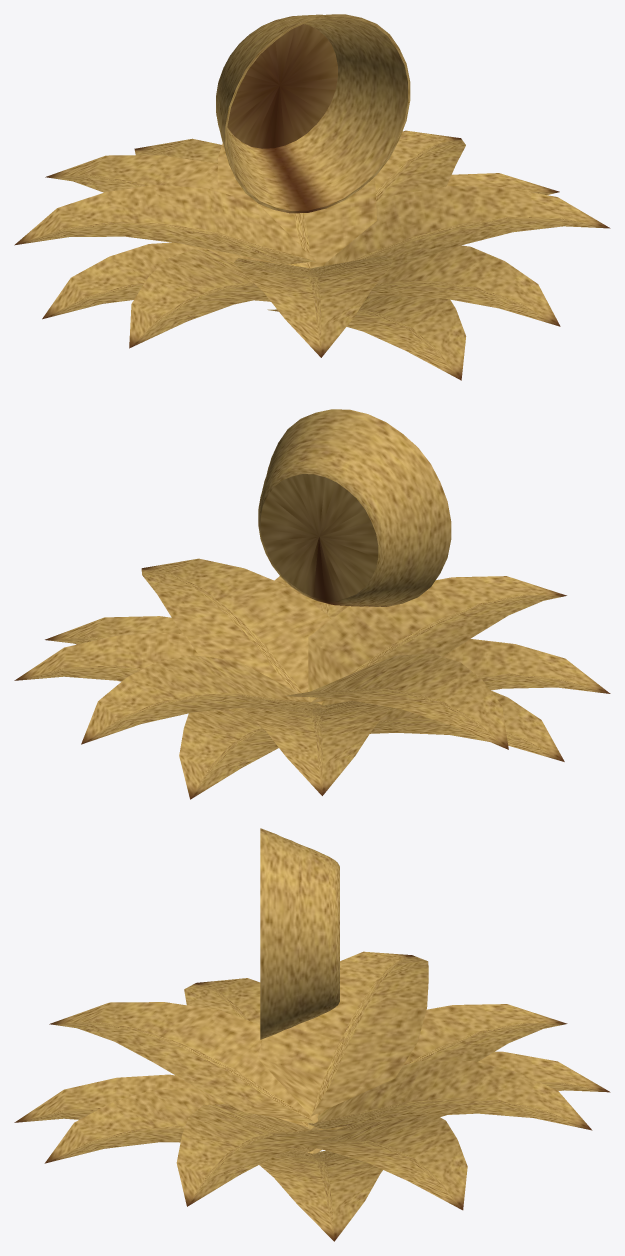
File: blah2fwfw34rdfsdfhh.dae
3 renders of one model, top to bottom at view 1: azimuth 30°, elevation 25°; view 2: azimuth 150°, elevation 25°; view 3: azimuth 270°, elevation 25°, orthographic.
Parts seen in each view (by area): view 1: Root; view 2: Root; view 3: Root.
Part boxes in pixels (x1,y1,x2,y2): Root: (14, 14, 610, 380); Root: (14, 409, 610, 799); Root: (14, 828, 610, 1241).
Size of the model in its own units: 8.67 by 5.11 by 8.67.
Materials: 2 (2 with a texture image).
